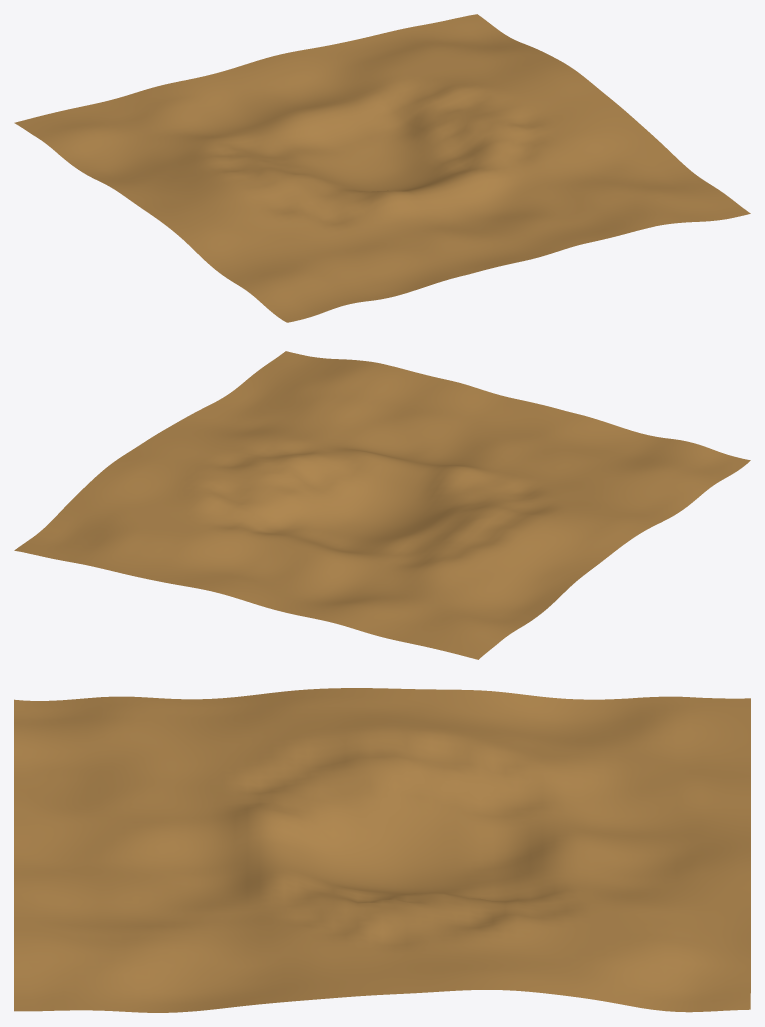
The model's file is terre_bosse_neg1.fbx.
3 views of the same model, one above another, from view 1: azimuth 30°, elevation 25°; view 2: azimuth 150°, elevation 25°; view 3: azimuth 270°, elevation 25° (orthographic). The views are drawn at different scales.
Parts seen in each view (by area): view 1: bosse_neg2; view 2: bosse_neg2; view 3: bosse_neg2.
Part boxes in pixels (x1,y1,x2,y2): bosse_neg2: (14,14,750,322); bosse_neg2: (14,351,750,659); bosse_neg2: (14,688,750,1012).
Size of the model in its own units: 709 by 49.75 by 720.
